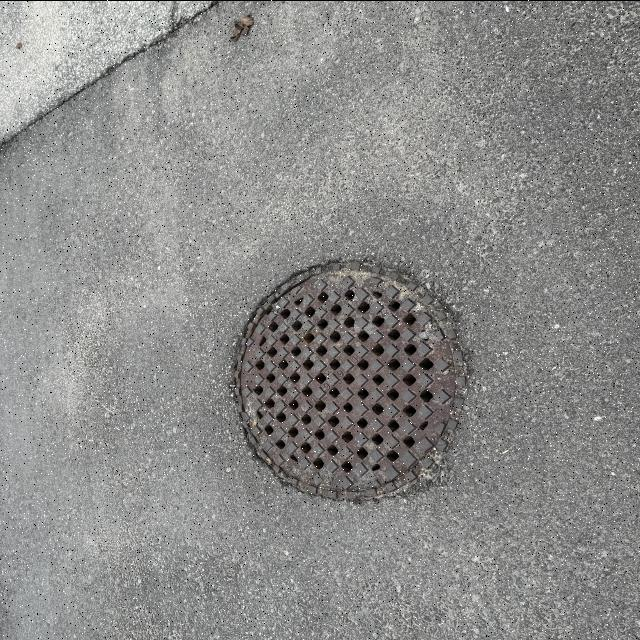Manhole: (224, 258, 468, 506)
